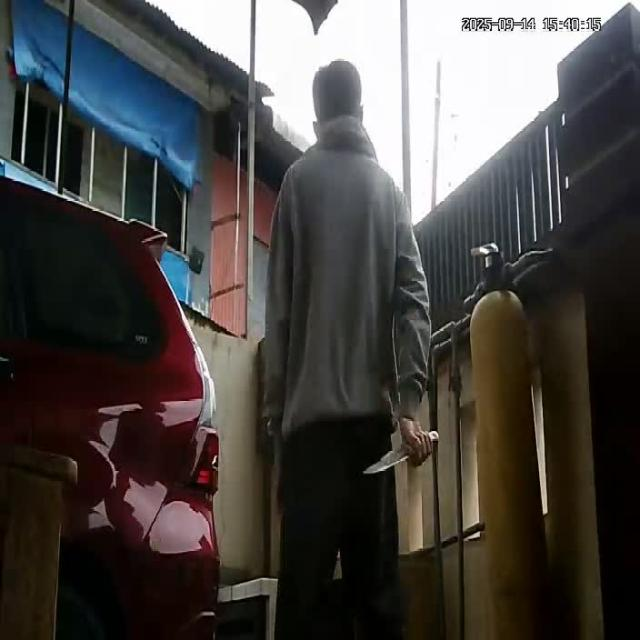senjata_tajam: (360, 444, 410, 478)
